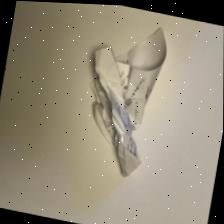paper: (59, 2, 217, 196)
